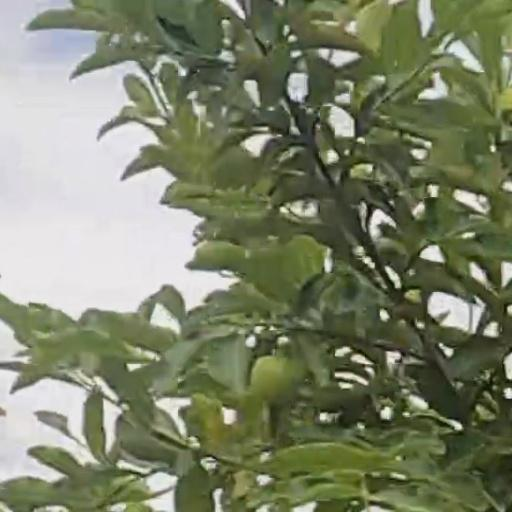acerola_verde: (250, 354, 298, 403)
